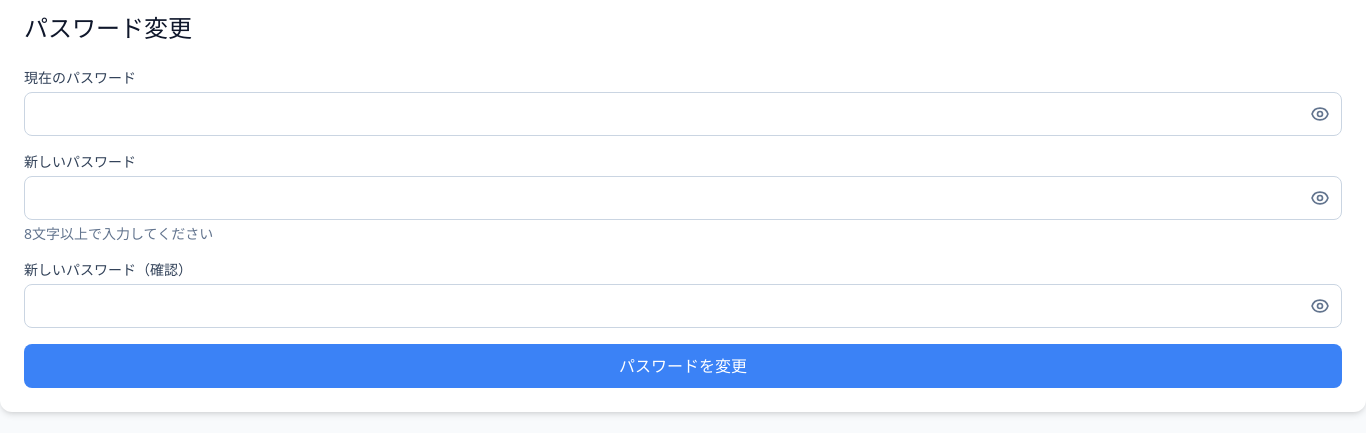
PasswordChangeForm › Validation › should show error when new password is less than 8 characters
Type "oldpass123" into the password field labelled "現在のパスワード" at (683, 114), box left=24, top=92, right=1342, bottom=136
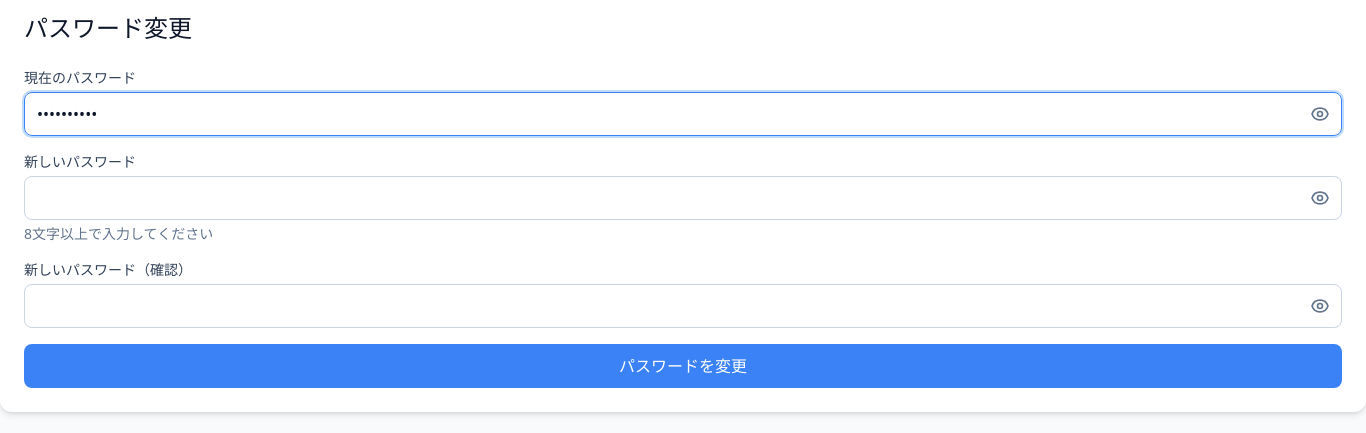
Type "short" into the password field labelled "新しいパスワード" at (683, 198), box left=24, top=176, right=1342, bottom=220
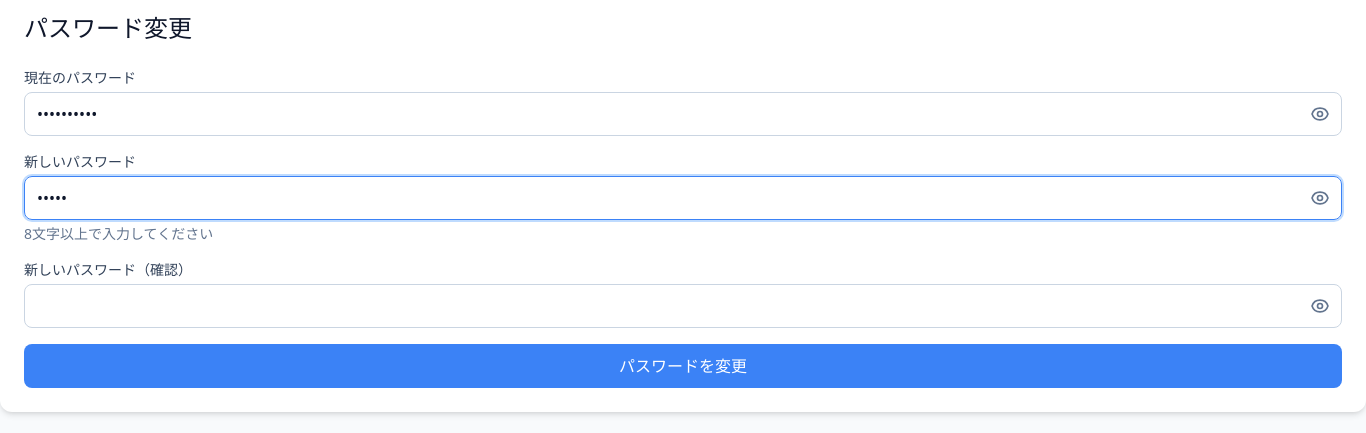
Type "short" into the password field labelled "新しいパスワード（確認）" at (683, 306), box left=24, top=284, right=1342, bottom=328
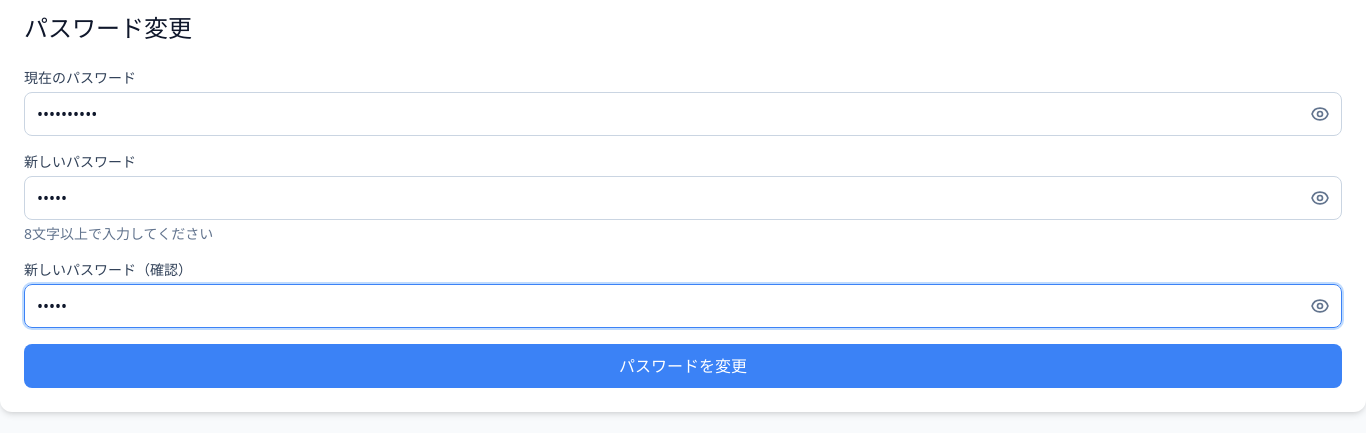
Click the button "パスワードを変更" at (683, 366), box left=24, top=344, right=1342, bottom=388
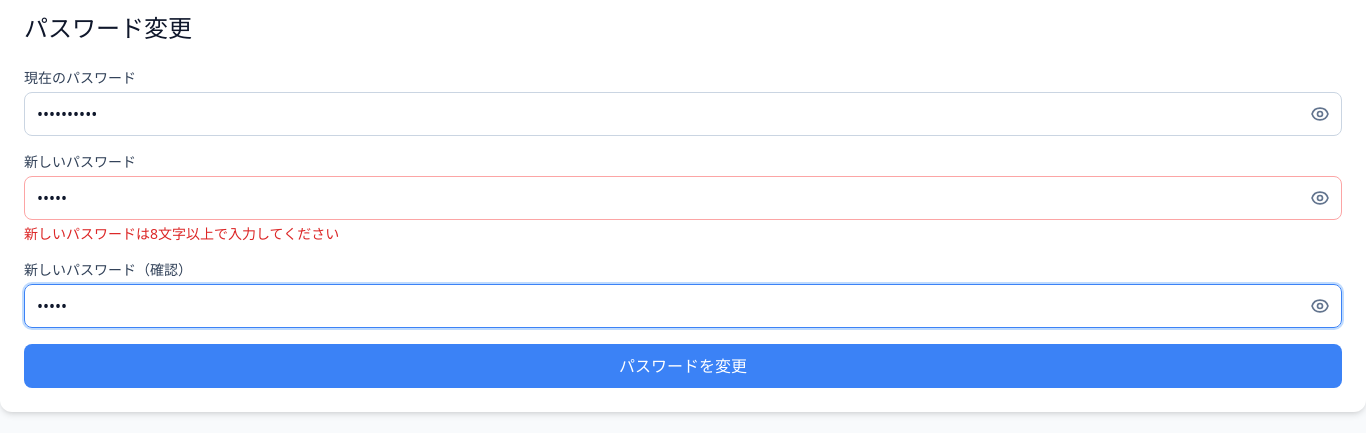
Check: the text "新しいパスワードは8文字以上で入力してください" is shown, box left=24, top=224, right=339, bottom=243
